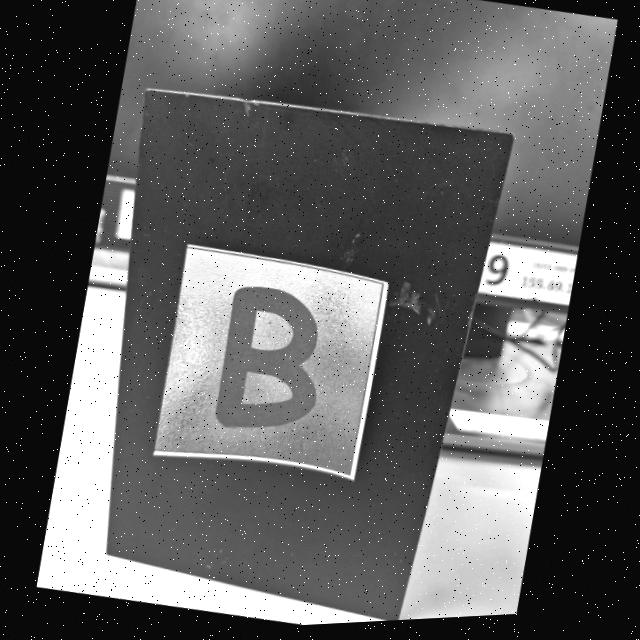B: (214, 290, 316, 431)
